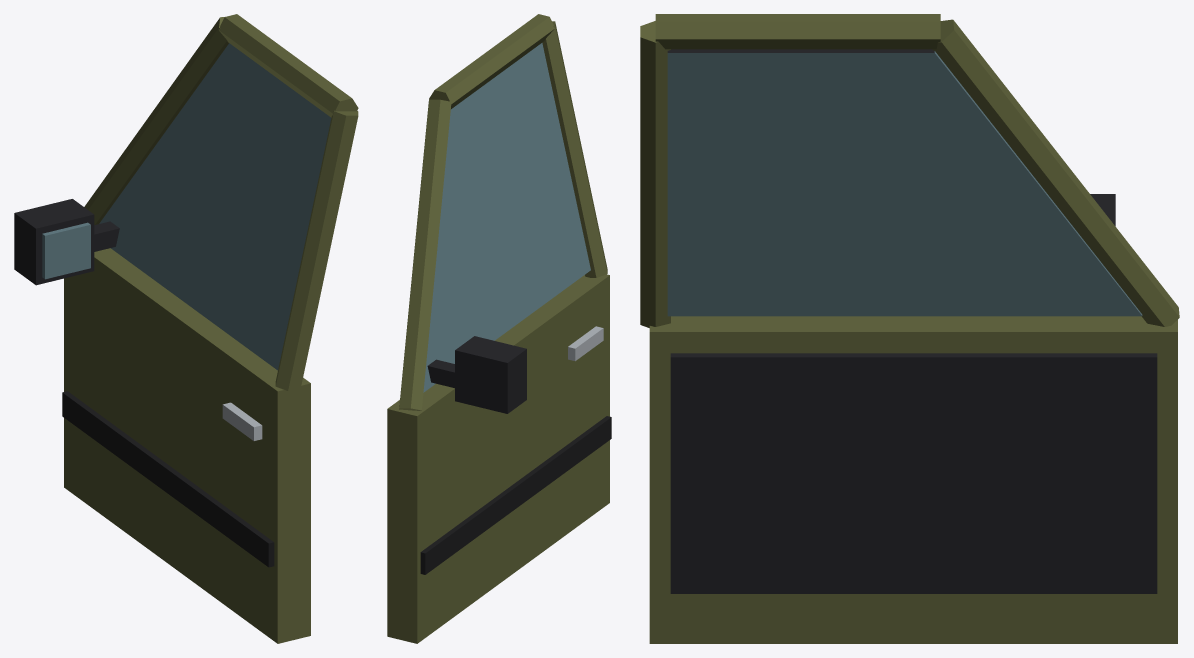
Rendered from car_door_olive.glb.
3 views of the same model, side by side, from view 1: azimuth 30°, elevation 25°; view 2: azimuth 150°, elevation 25°; view 3: azimuth 270°, elevation 25° (orthographic). The views are drawn at different scales.
Visible parts, largest first — view 1: door_L; view 2: door_L; view 3: door_L.
Part boxes in pixels (box(x1,y1,x2,y2)): door_L: box(14, 14, 358, 643); door_L: box(387, 14, 611, 643); door_L: box(640, 14, 1179, 643).
Size of the model in its own units: 0.38 by 1.21 by 0.9089.
Materials: 2 (2 with a texture image).
